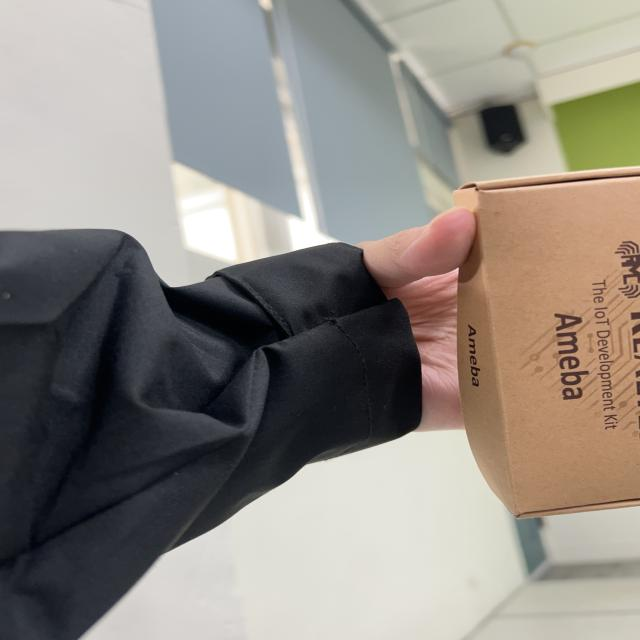box: (405, 148, 640, 544)
